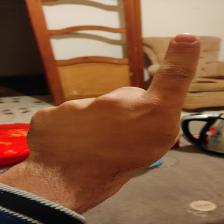one: (26, 30, 203, 181)
